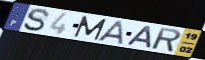4: (47, 11, 69, 36)
A: (124, 25, 153, 49), (97, 20, 124, 45)
M: (73, 14, 109, 41)
R: (151, 26, 183, 53)
S: (22, 8, 52, 32)
